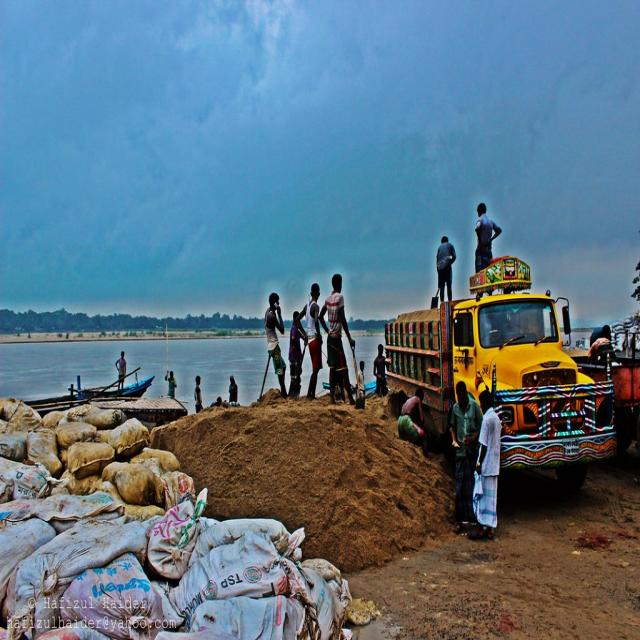truck: (372, 247, 614, 512)
